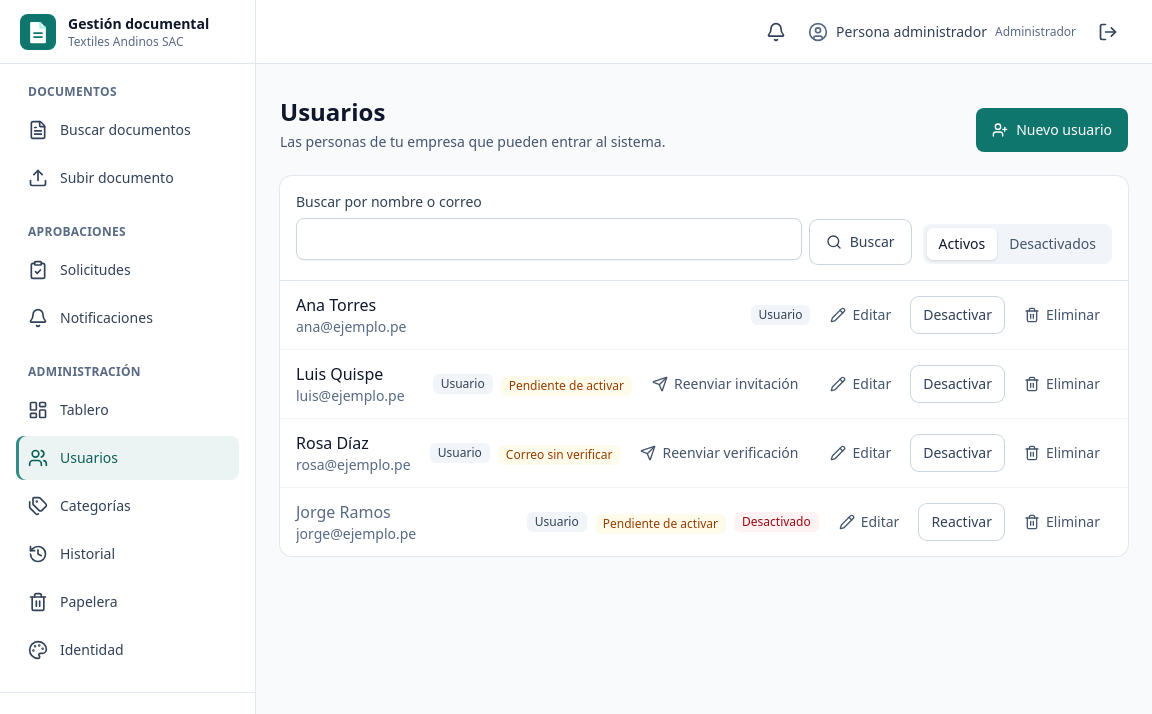
Test: Usuarios: el estado del correo y la invitación (D41) › reenviar la invitación lo confirma en la misma fila, con la hora; si hay que esperar, lo dice la API
Click the button "Reenviar invitación".
click(725, 384)  # box [640, 366, 810, 402]
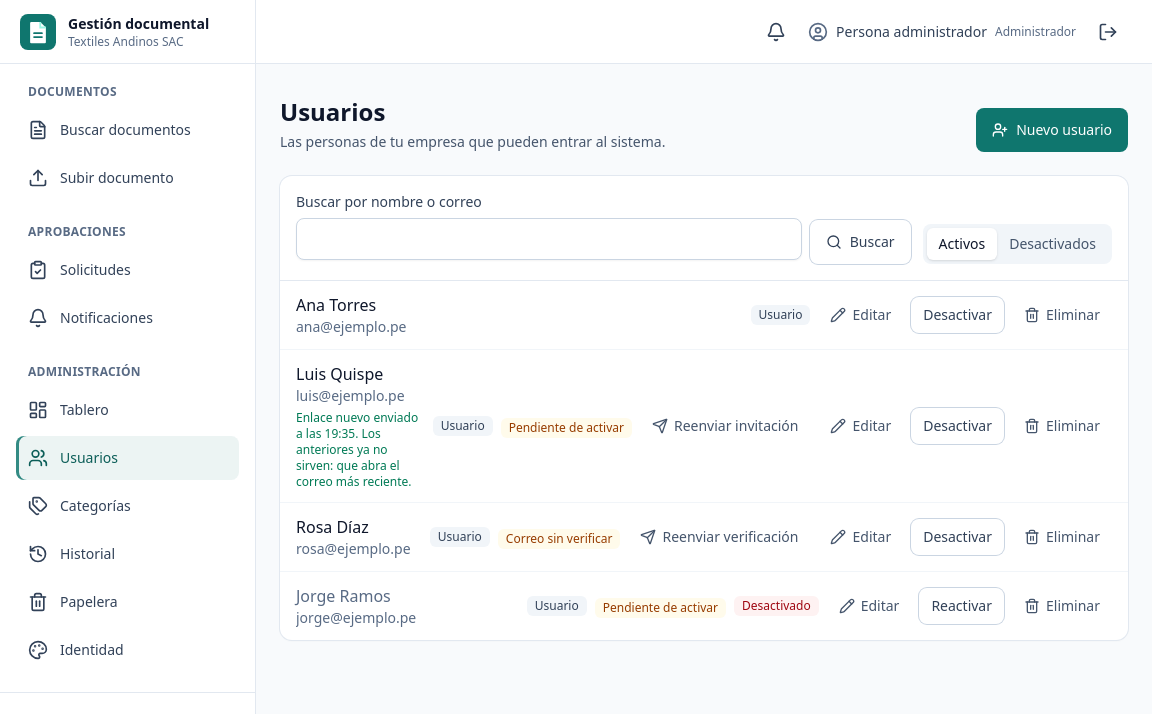
Click the button "Reenviar invitación".
click(725, 426)  # box [640, 408, 810, 444]
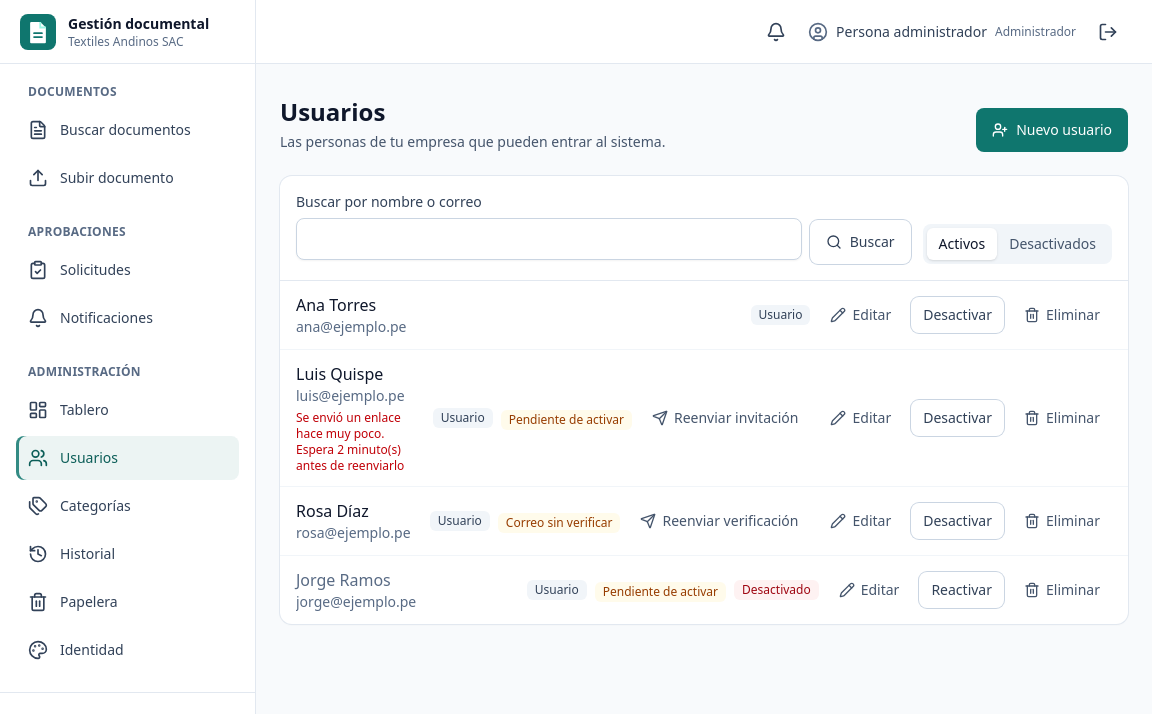
Expected: the message shows "Espera 2 minuto(s)", [296, 409, 404, 474]
